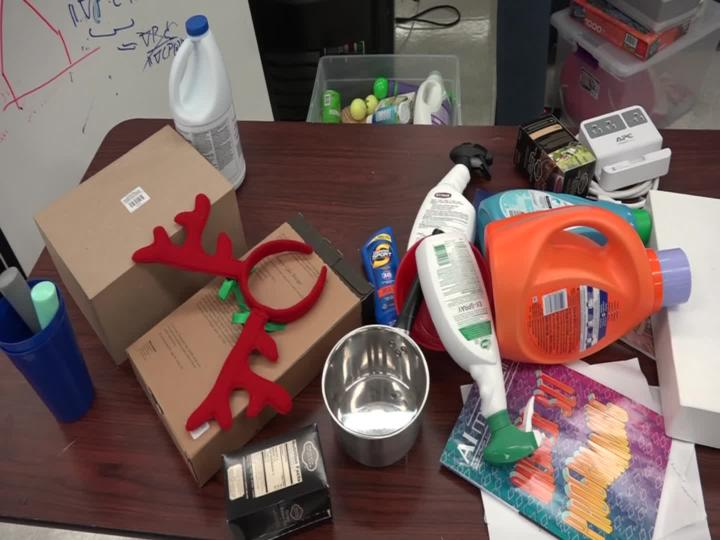tide: (461, 187, 694, 373)
